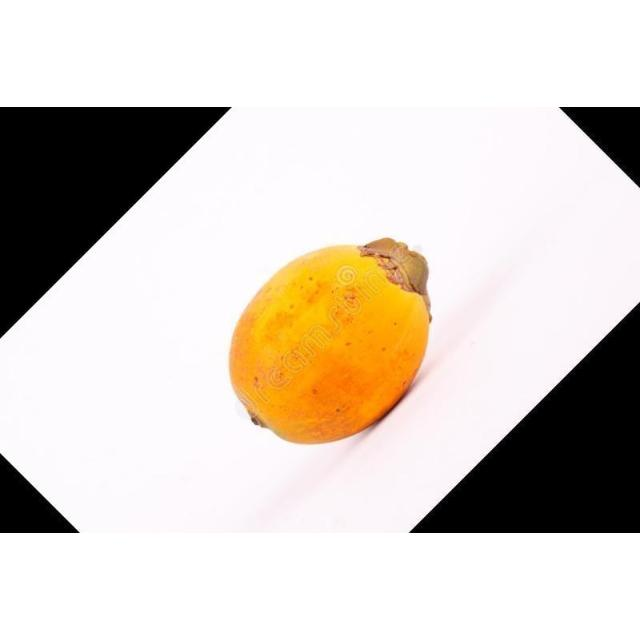good: (227, 239, 433, 447)
